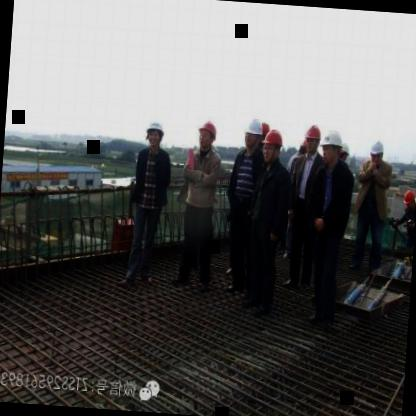helmet: (318, 129, 344, 167), (240, 114, 264, 154), (301, 120, 325, 158), (142, 116, 166, 153), (262, 126, 284, 164), (196, 115, 218, 152), (368, 136, 390, 167), (402, 186, 416, 212)
